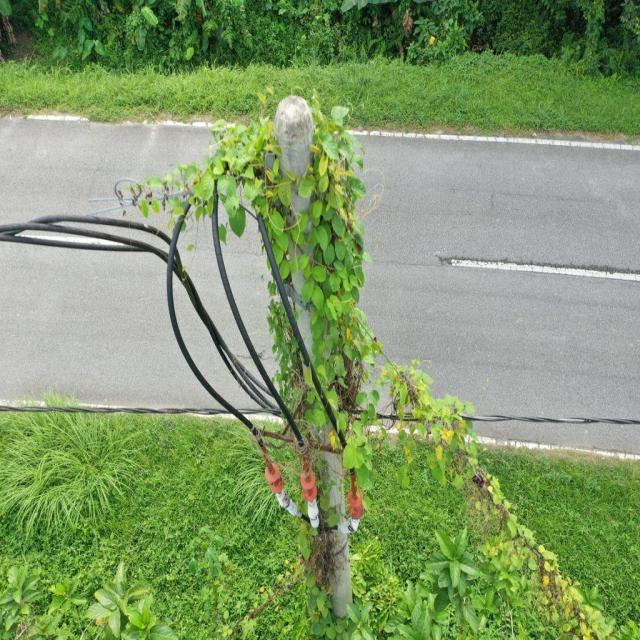critical vegetation: (100, 80, 372, 550), (388, 343, 618, 630)
